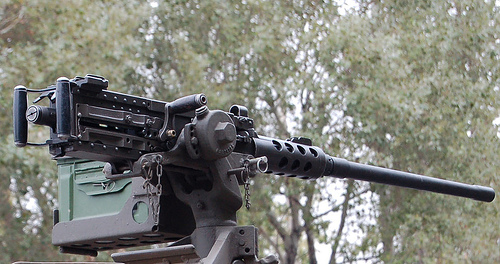rifle: (12, 68, 494, 253)
